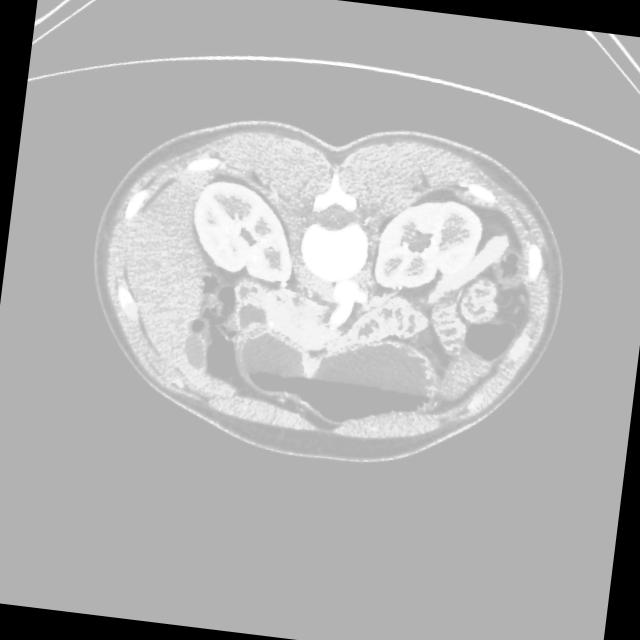NORMAL: (39, 68, 605, 517)
